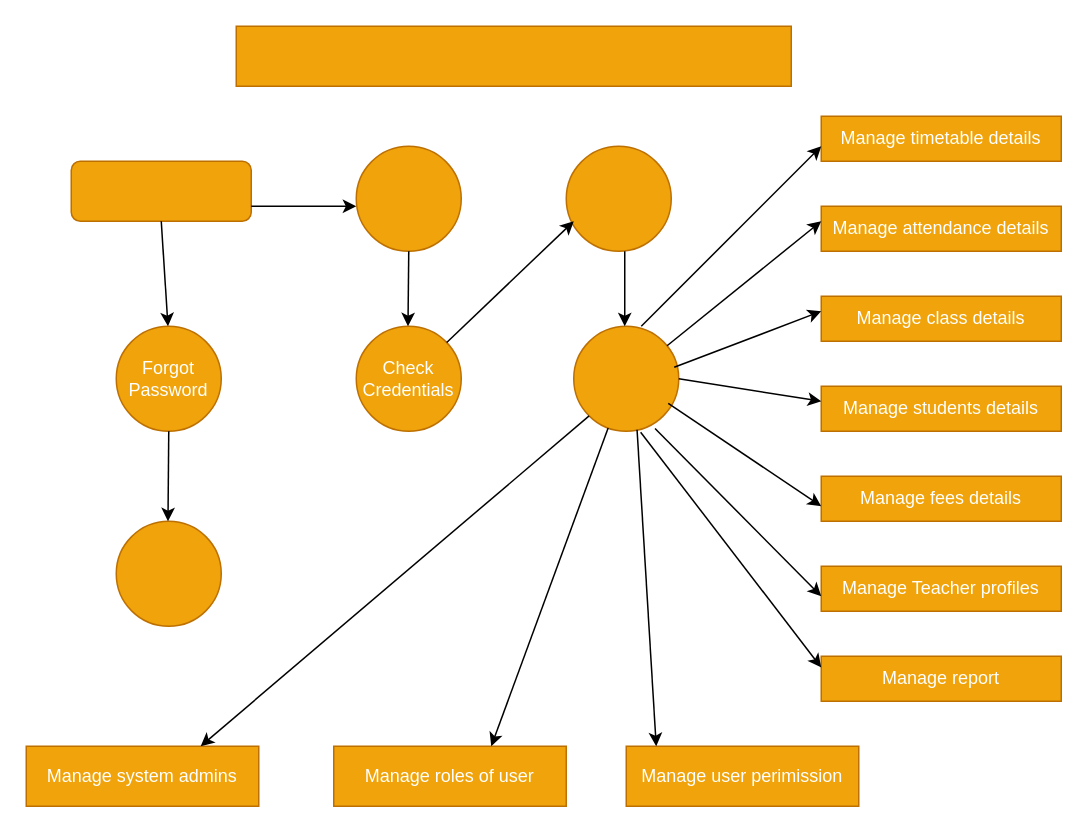
This 1088x833 diagram has some shape labels left out. Here are the shapes that lost their labels. From the top down, the centre of each, then its label:
At (x=513, y=55): "STUDENT INFORMATION SYSTEM".
At (x=160, y=190): "Admin".
At (x=408, y=198): "Login to system".
At (x=618, y=198): "Check roles of Access".
At (x=625, y=378): "Manage modules".
At (x=168, y=573): "Send email to user".
